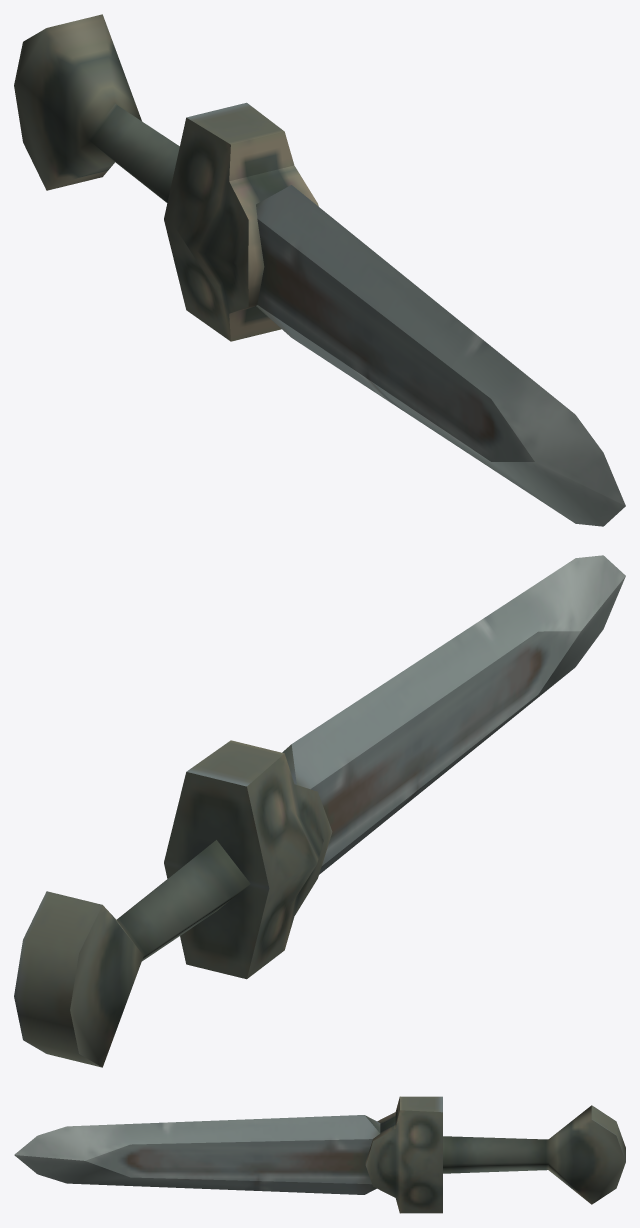
Rendered from model_sword.glb.
3 views of the same model, one above another, from view 1: azimuth 30°, elevation 25°; view 2: azimuth 150°, elevation 25°; view 3: azimuth 270°, elevation 25° (orthographic). The views are drawn at different scales.
Parts seen in each view (by area): view 1: mechaknight.model_sword-MeshNodes["mesh_sword_proto"]; view 2: mechaknight.model_sword-MeshNodes["mesh_sword_proto"]; view 3: mechaknight.model_sword-MeshNodes["mesh_sword_proto"].
Boxes of the visible parts, box(x1,y1,x2,y2) form: mechaknight.model_sword-MeshNodes["mesh_sword_proto"]: box(14, 14, 625, 526); mechaknight.model_sword-MeshNodes["mesh_sword_proto"]: box(14, 555, 625, 1067); mechaknight.model_sword-MeshNodes["mesh_sword_proto"]: box(14, 1096, 625, 1213).
Size of the model in its own units: 0.152 by 0.2237 by 1.2.
1 material, 1 textured.
